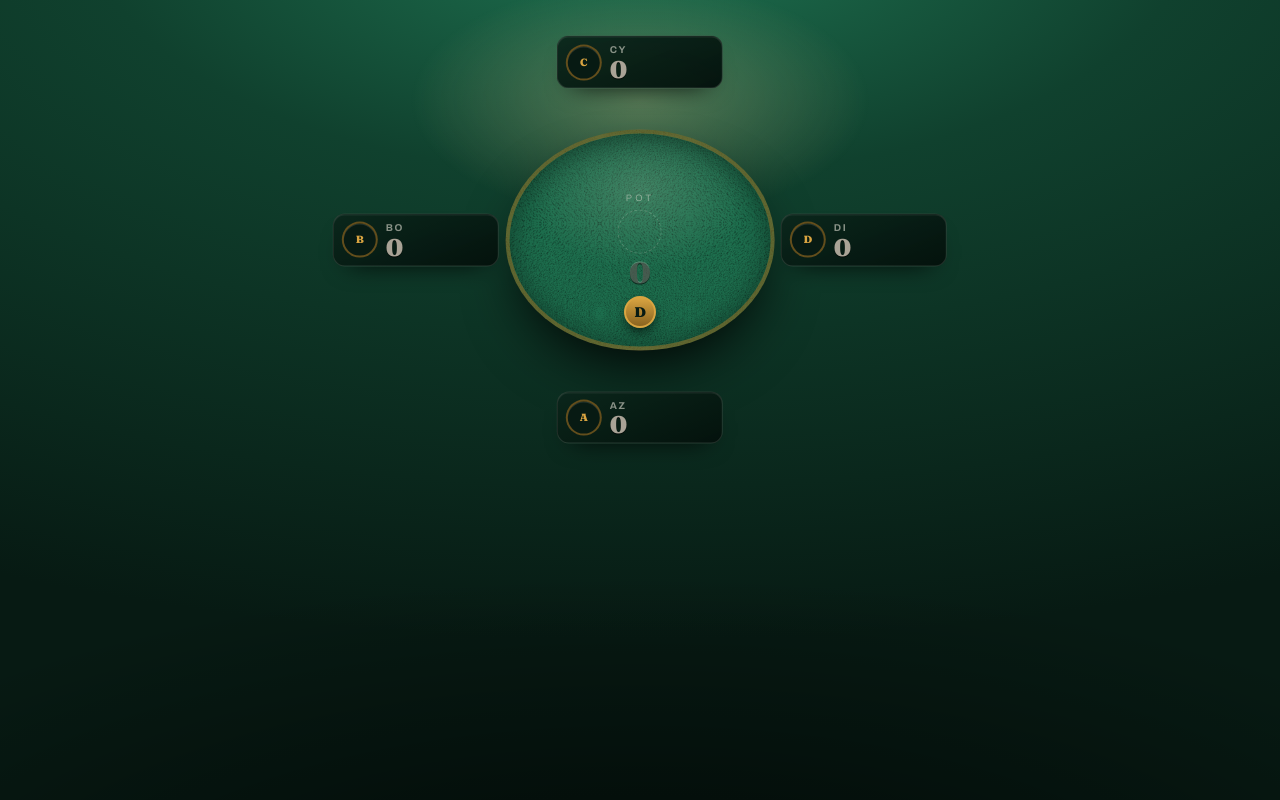
Test: ploegkiezer › vraagt een nieuwe gast voor deze zetel
Click the button "B". click: click(360, 240)
box: left=342, top=222, right=378, bottom=258
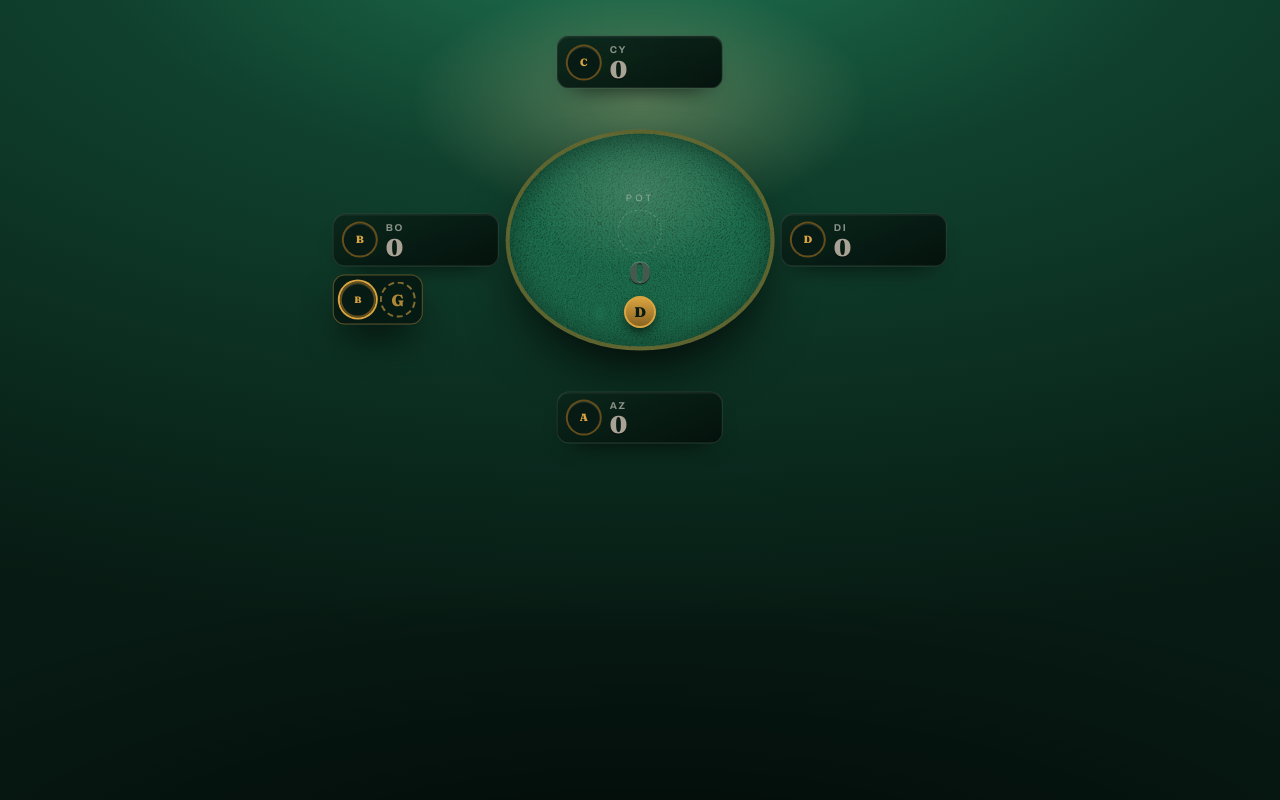
Click the button titled "Gast toevoegen". click: click(398, 299)
box: left=380, top=281, right=416, bottom=317
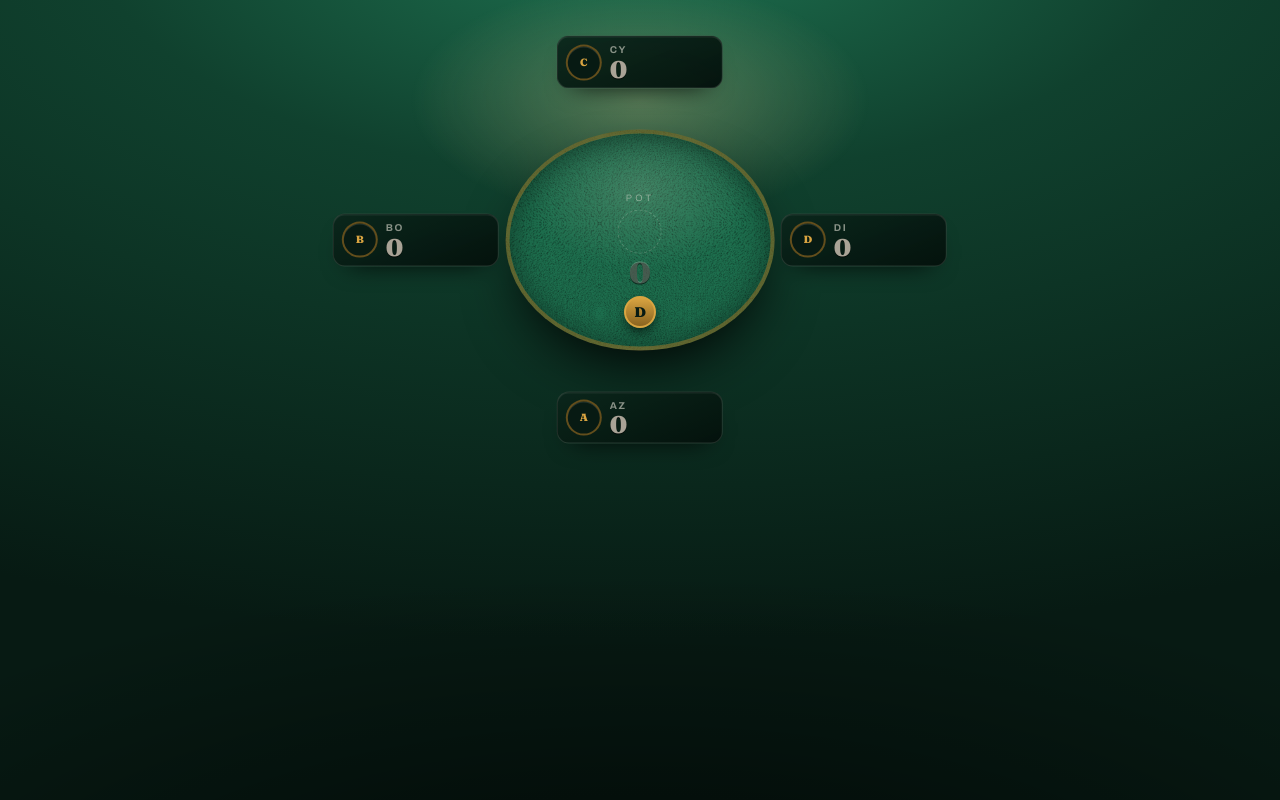
Expected: the element with class "animatie-open" is gone
